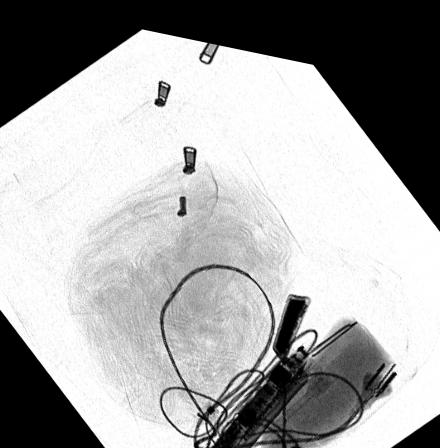Powerbank: (272, 281, 312, 349)
